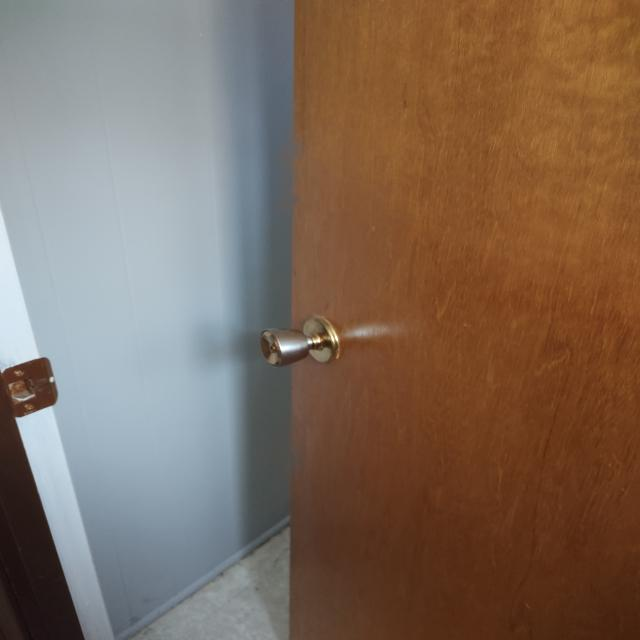door-knob: (261, 315, 339, 366)
